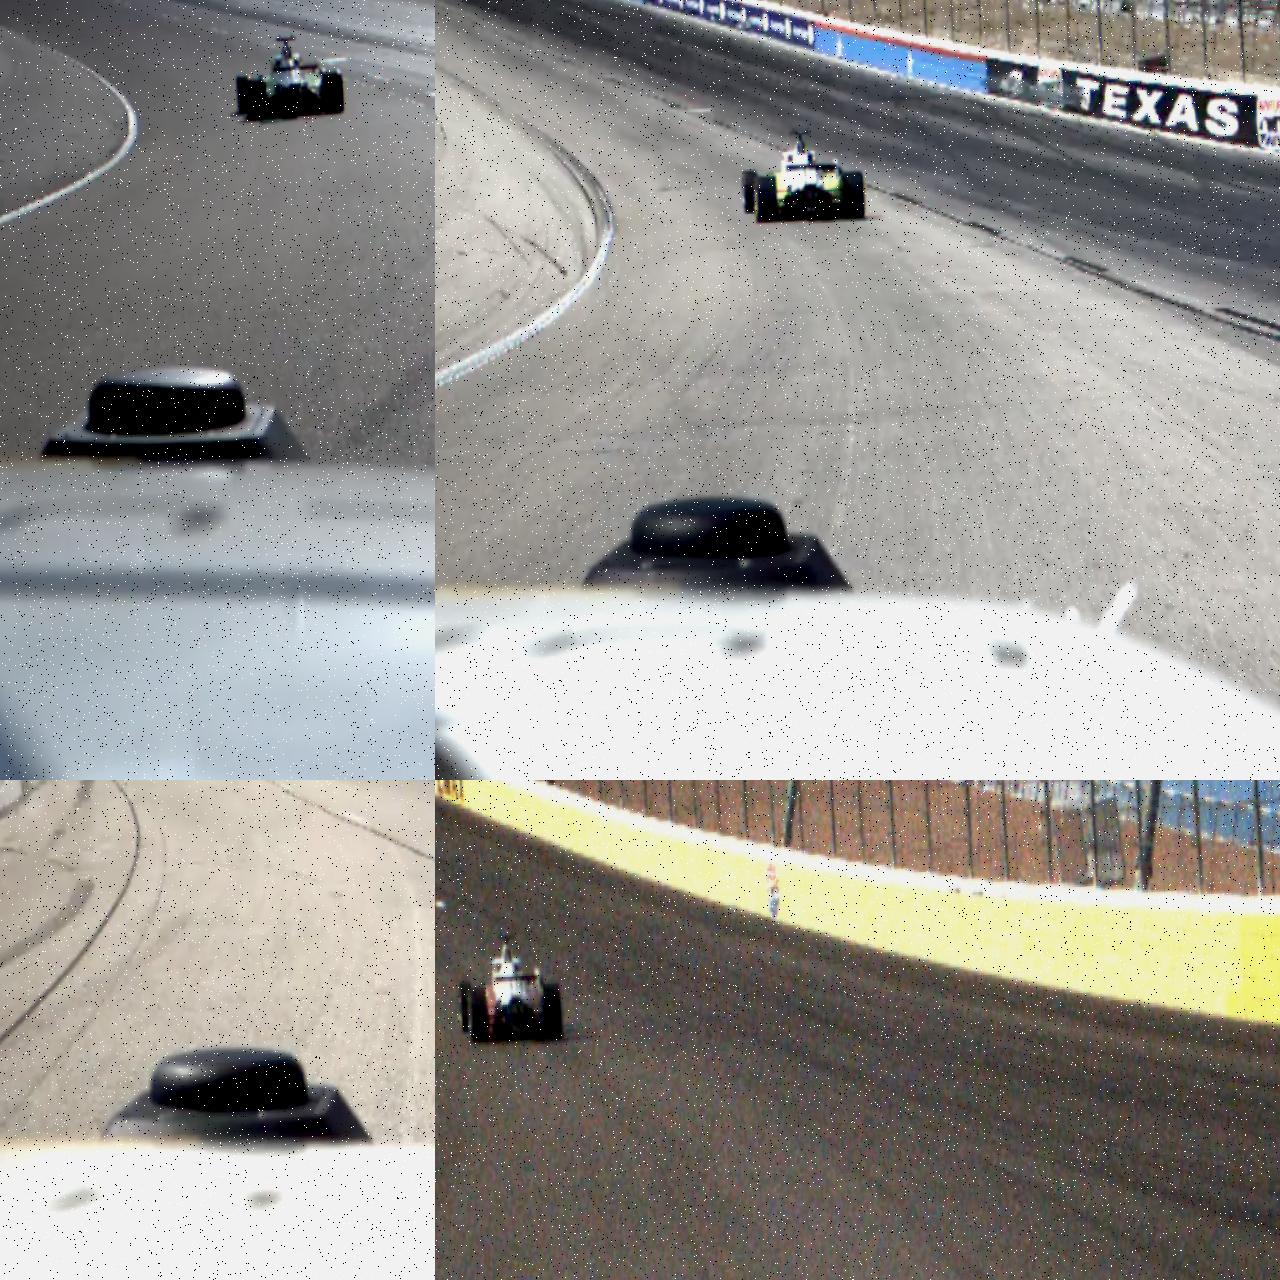AV: (452, 928, 564, 1047), (737, 125, 867, 225), (232, 32, 346, 122)
Wheel: (467, 986, 490, 1043), (751, 176, 778, 225), (840, 170, 866, 220), (544, 982, 564, 1041), (241, 79, 267, 121), (320, 70, 343, 115), (740, 168, 760, 215), (458, 980, 474, 1034), (234, 75, 251, 114)
